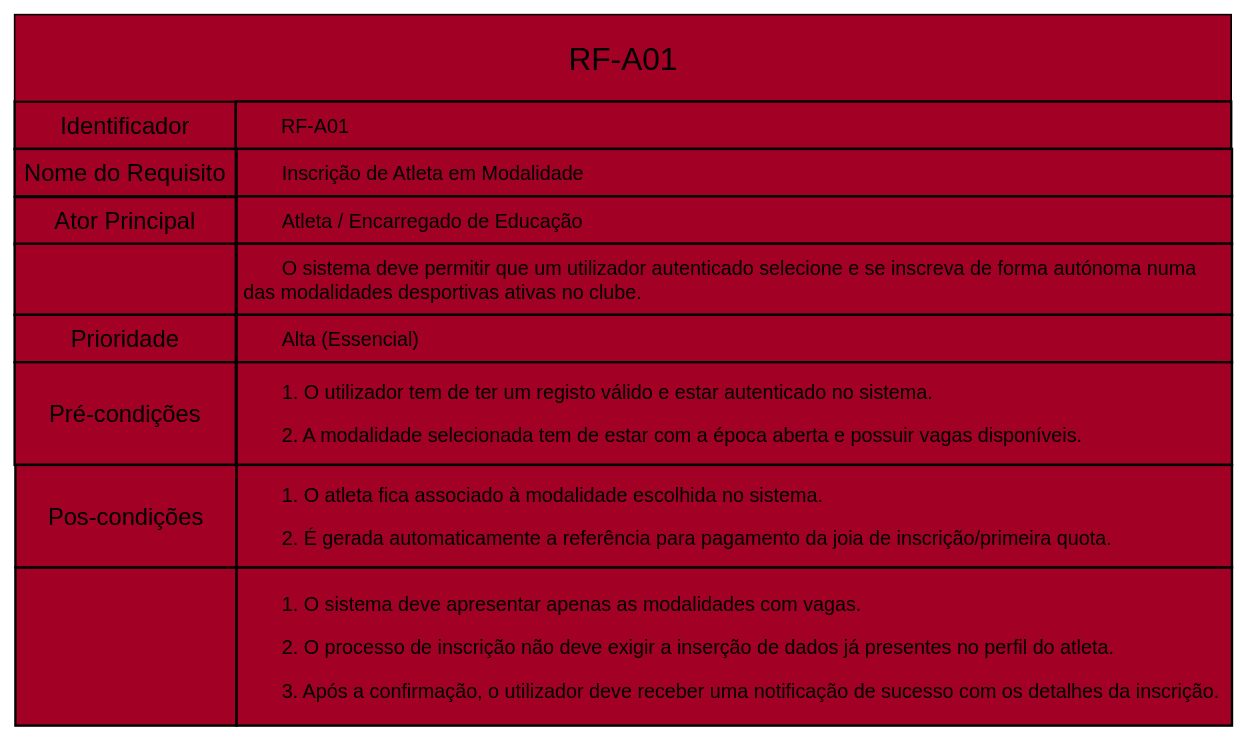
Some shapes in this 1247 by 740 pixel diagram are drawn without their labels. Here are the shapes that lost their labels. From the top down, the box of each, then its label:
(13, 242, 237, 316): Descrição
(14, 566, 237, 726): Critérios de Aceitação
